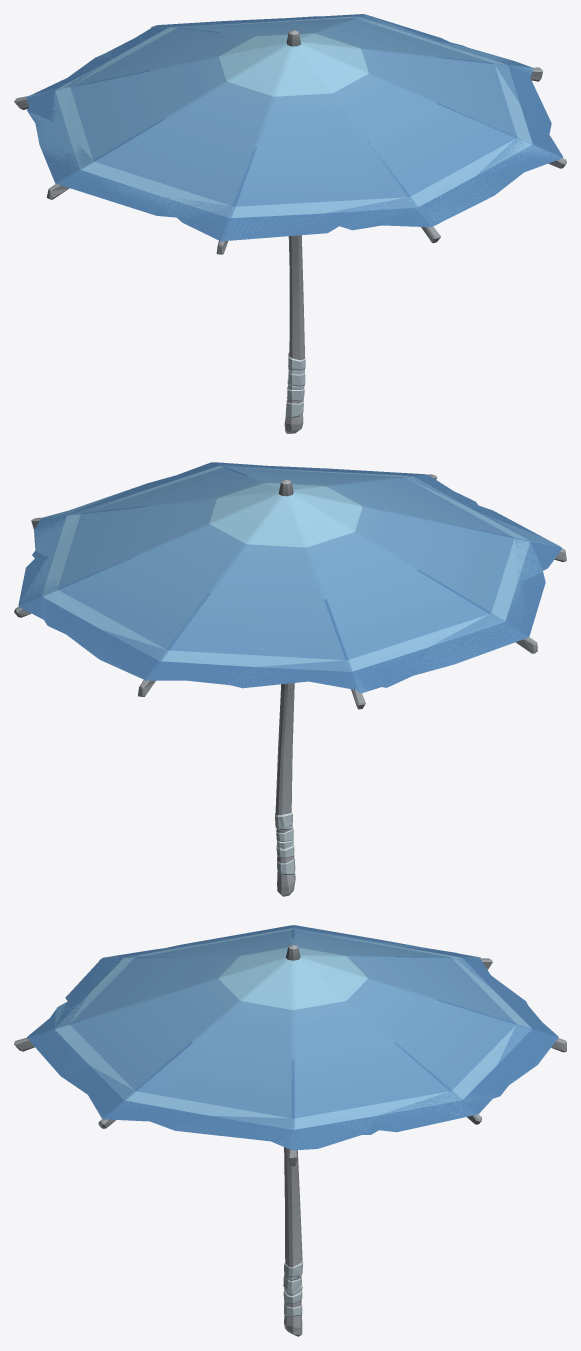
Rendered from CharSkyKid_Prop_Umbrella.glb.
3 renders of one model, top to bottom at view 1: azimuth 30°, elevation 25°; view 2: azimuth 150°, elevation 25°; view 3: azimuth 270°, elevation 25°, orthographic. The views are drawn at different scales.
Visible parts, largest first — view 1: CharSkyKid_Prop_Umbrella; view 2: CharSkyKid_Prop_Umbrella; view 3: CharSkyKid_Prop_Umbrella.
Boxes of the visible parts, left/top/right/bottom form: CharSkyKid_Prop_Umbrella: left=14, top=14, right=566, bottom=433; CharSkyKid_Prop_Umbrella: left=14, top=462, right=566, bottom=896; CharSkyKid_Prop_Umbrella: left=14, top=925, right=566, bottom=1336.
Size of the model in its own units: 14.18 by 11.15 by 14.26.
1 material, 1 textured.
